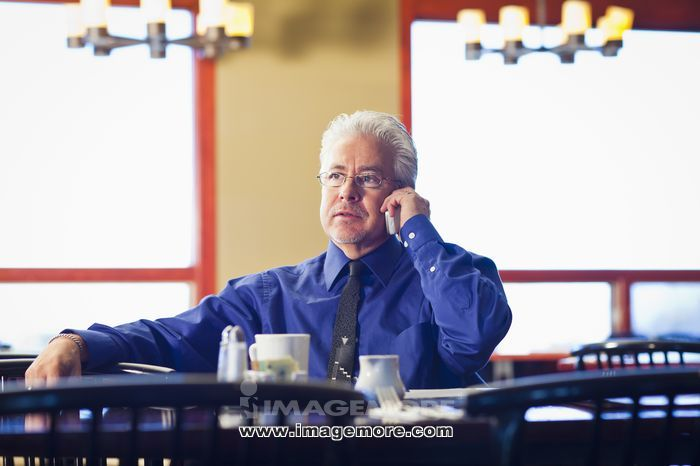phone: (384, 188, 435, 235)
talk: (327, 160, 445, 245)
